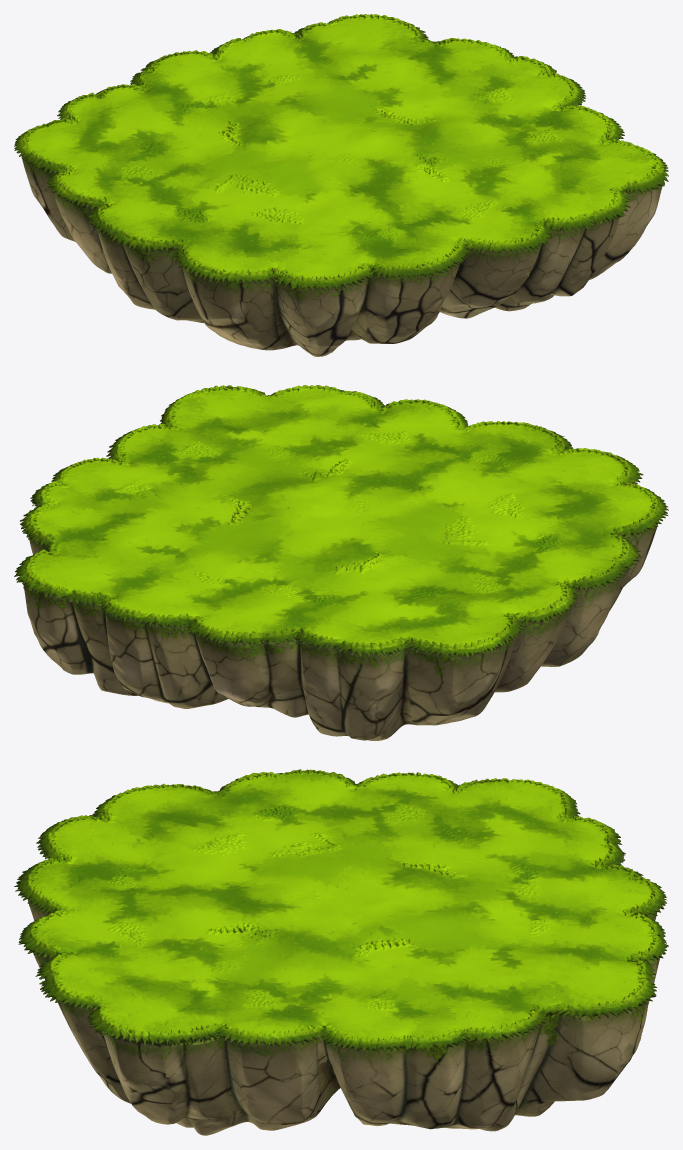
File: Ile_flottante.glb
3 views of the same model, one above another, from view 1: azimuth 30°, elevation 25°; view 2: azimuth 150°, elevation 25°; view 3: azimuth 270°, elevation 25° (orthographic). The views are drawn at different scales.
Bounding box in the file's own units: 1.89 × 0.4833 × 1.87.
Materials: 1 (1 with a texture image).
